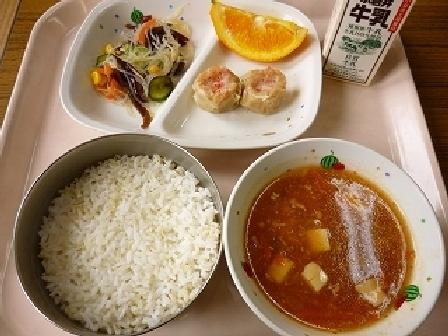Citrus: (202, 0, 309, 65)
Milk: (312, 0, 423, 81)
Rice: (22, 138, 215, 316)
Spicy chili-flavored tofu: (232, 155, 426, 324)
cutlet: (189, 61, 296, 120)
salad with sauce: (86, 11, 191, 97)
